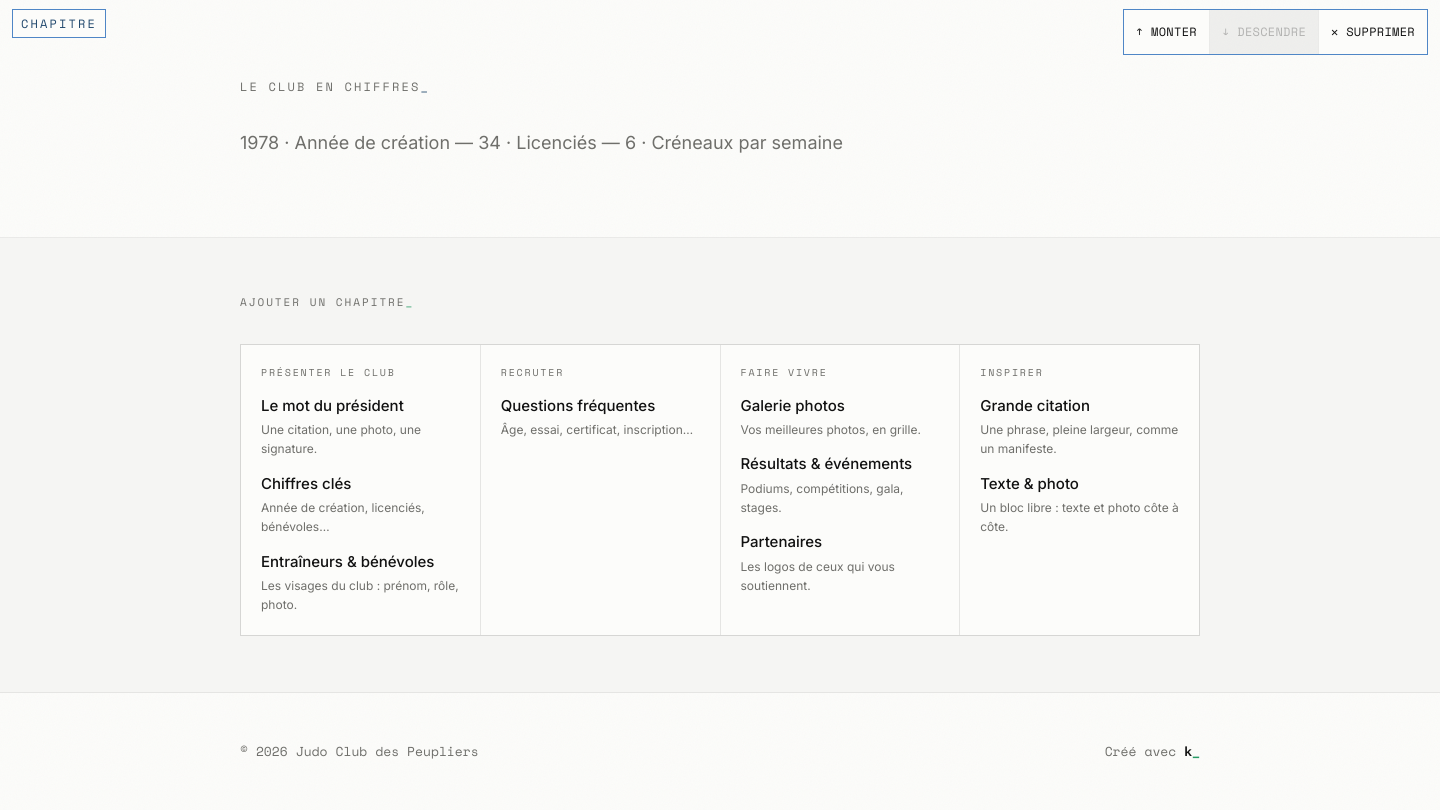
Test: l’ajout d’un chapitre › refuse d’ajouter un chapitre sans texte
(page scrolled)
Click the button "Chiffres clés Année de création, licenciés, bénévoles…".
click(360, 504)  # box [261,471,460,537]
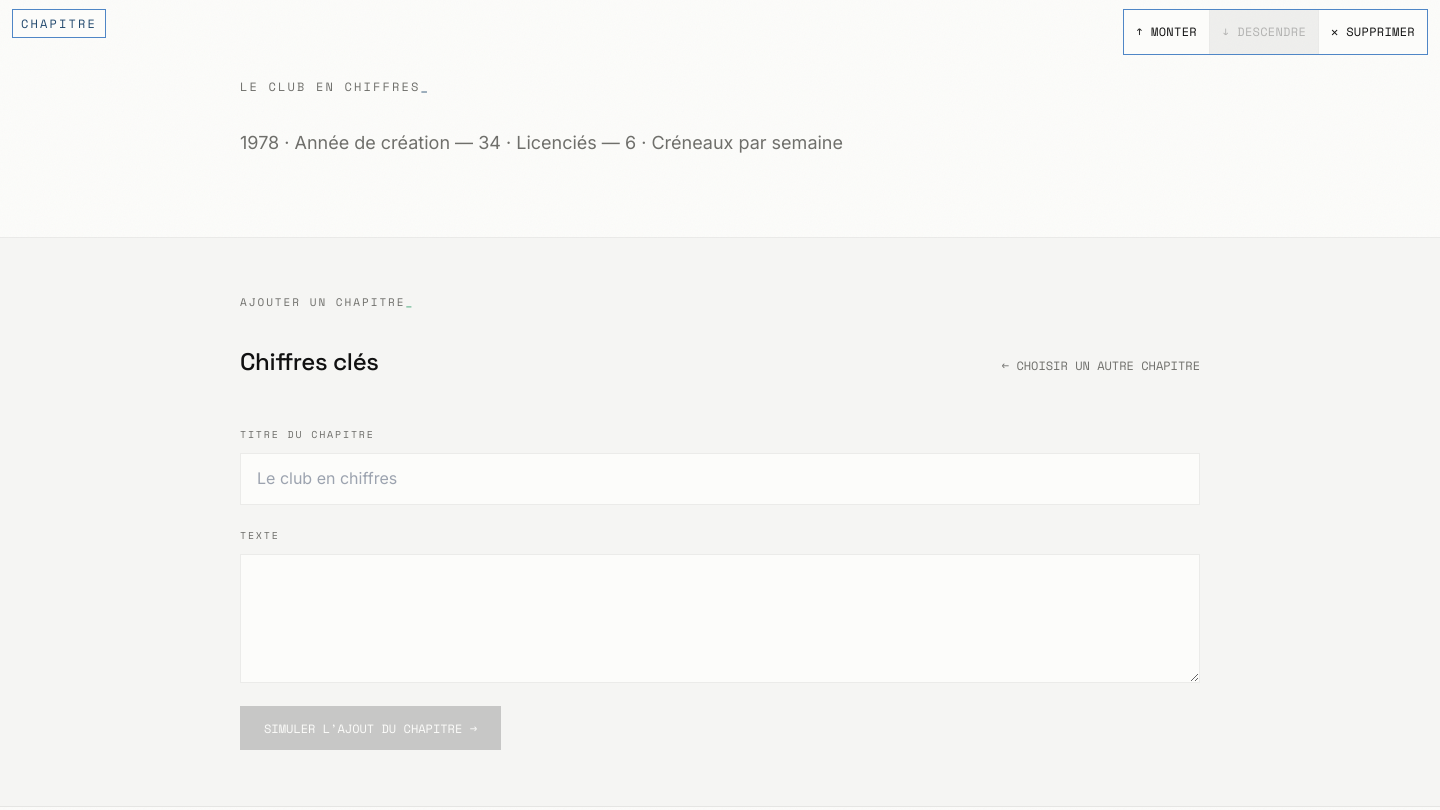
Result: the button "SIMULER L’AJOUT DU CHAPITRE →" is disabled at [240,706,501,750]
